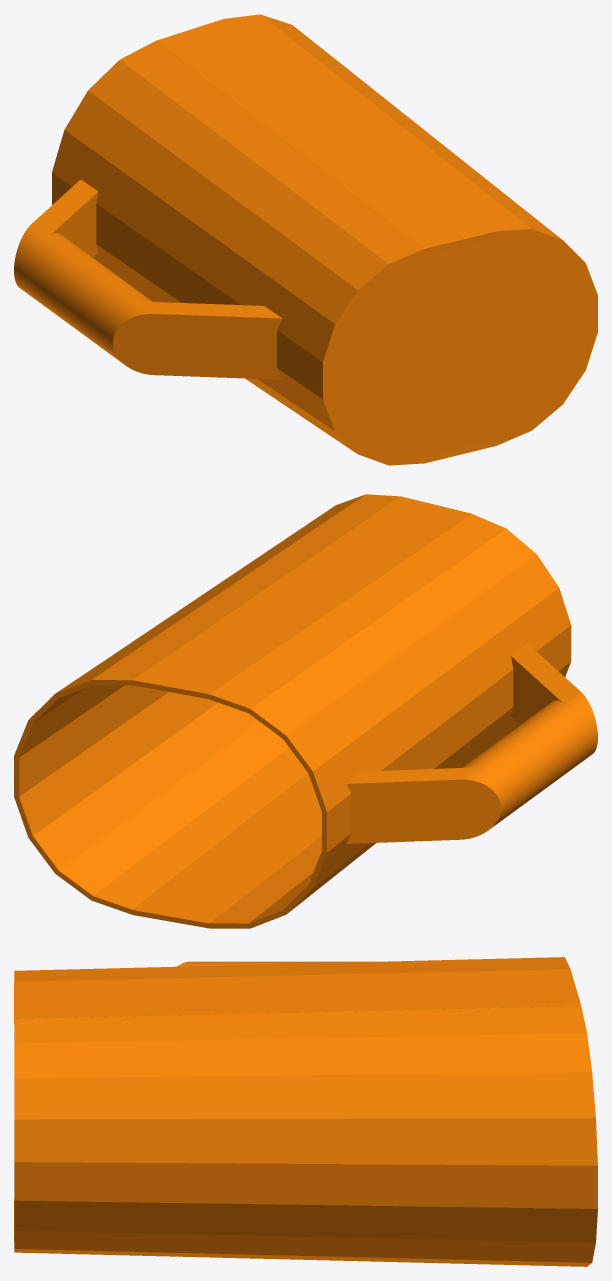
Rendered from ChocolateSyrupCup.fbx.
The picture shows the model from 3 angles, top to bottom: view 1: azimuth 30°, elevation 25°; view 2: azimuth 150°, elevation 25°; view 3: azimuth 270°, elevation 25°; orthographic projection. The views are drawn at different scales.
Parts seen in each view (by area): view 1: Blank_Jug; view 2: Blank_Jug; view 3: Blank_Jug.
Boxes of the visible parts, x1,y1,x2,y2 form: Blank_Jug: (14, 14, 597, 465); Blank_Jug: (14, 494, 597, 928); Blank_Jug: (14, 957, 597, 1266).
Bounding box in the file's own units: 1663 × 937 × 1997.
